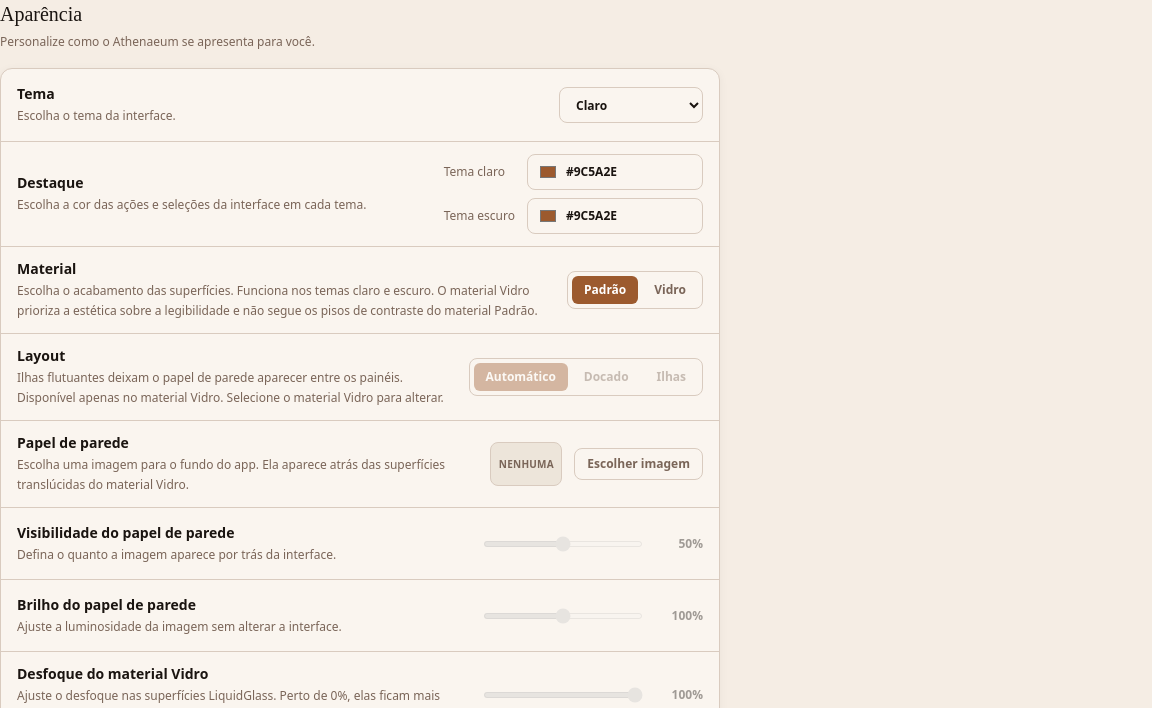
it: aviso na primeira selecao do material Vidro › grava a chave ao fechar o aviso
The width and height of the screenshot is (1152, 708).
Click the button "Vidro". click: (670, 290)
box: x1=642 y1=276 x2=698 y2=304
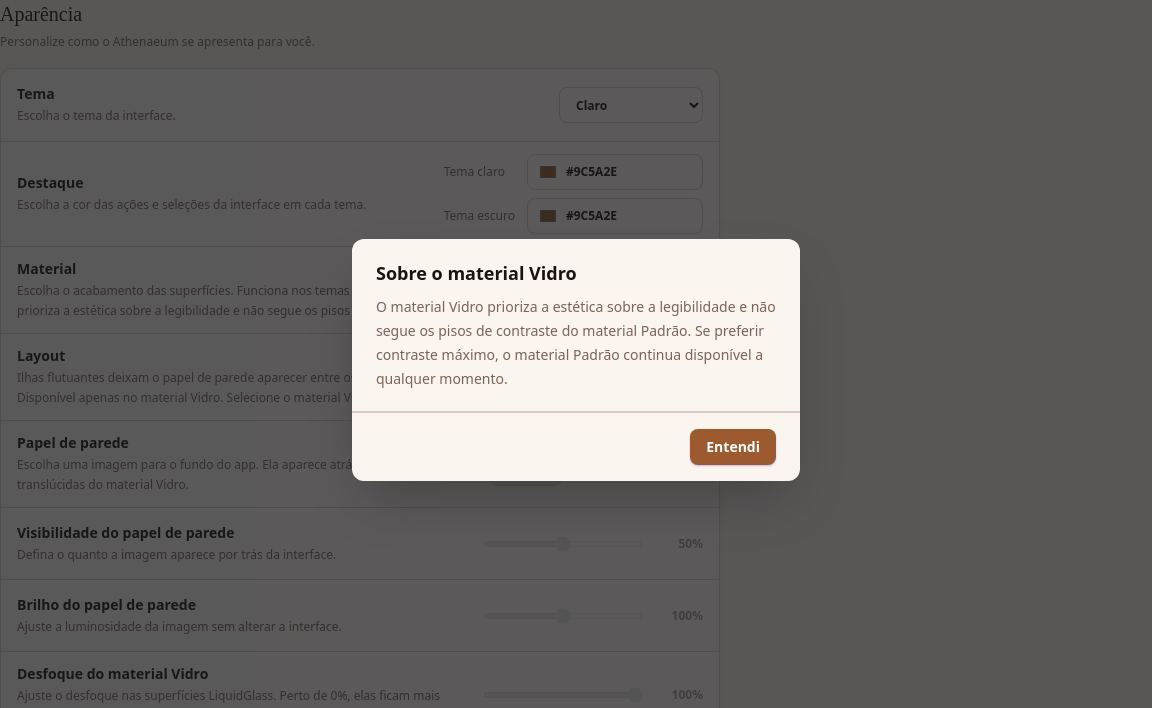
Click the button "Entendi". click: (733, 447)
box: x1=690 y1=429 x2=776 y2=465
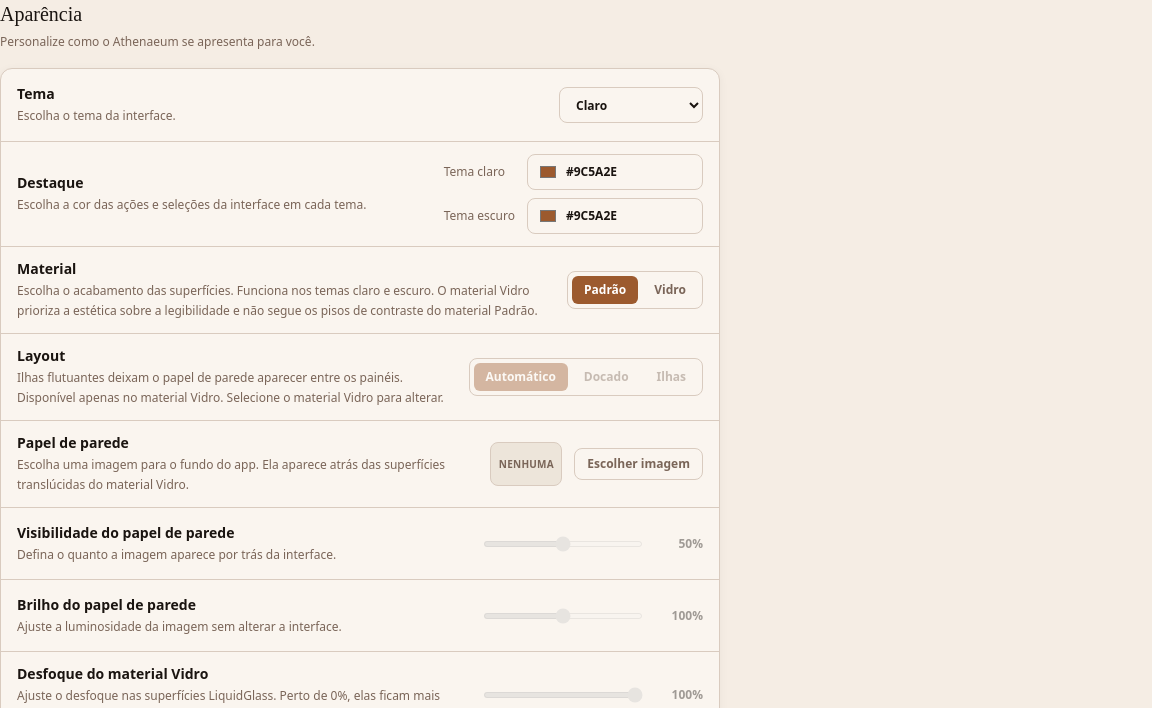
Now the heading "Sobre o material Vidro" is gone
